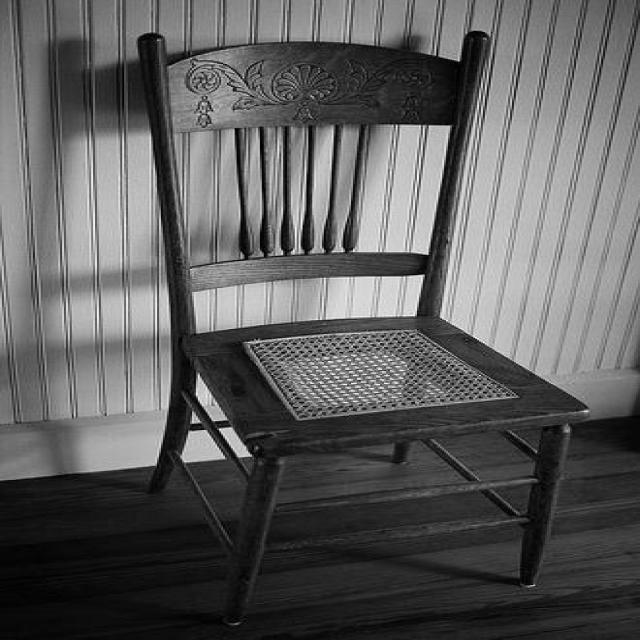chair: (116, 32, 590, 616)
